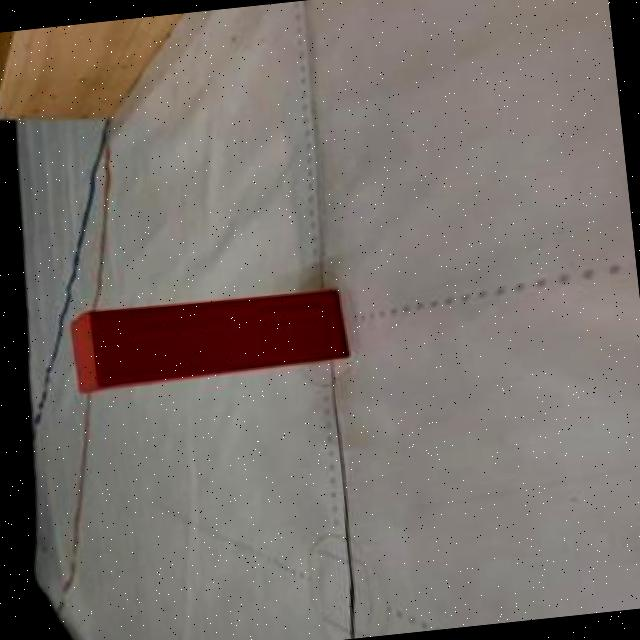redbox: (67, 280, 353, 397)
